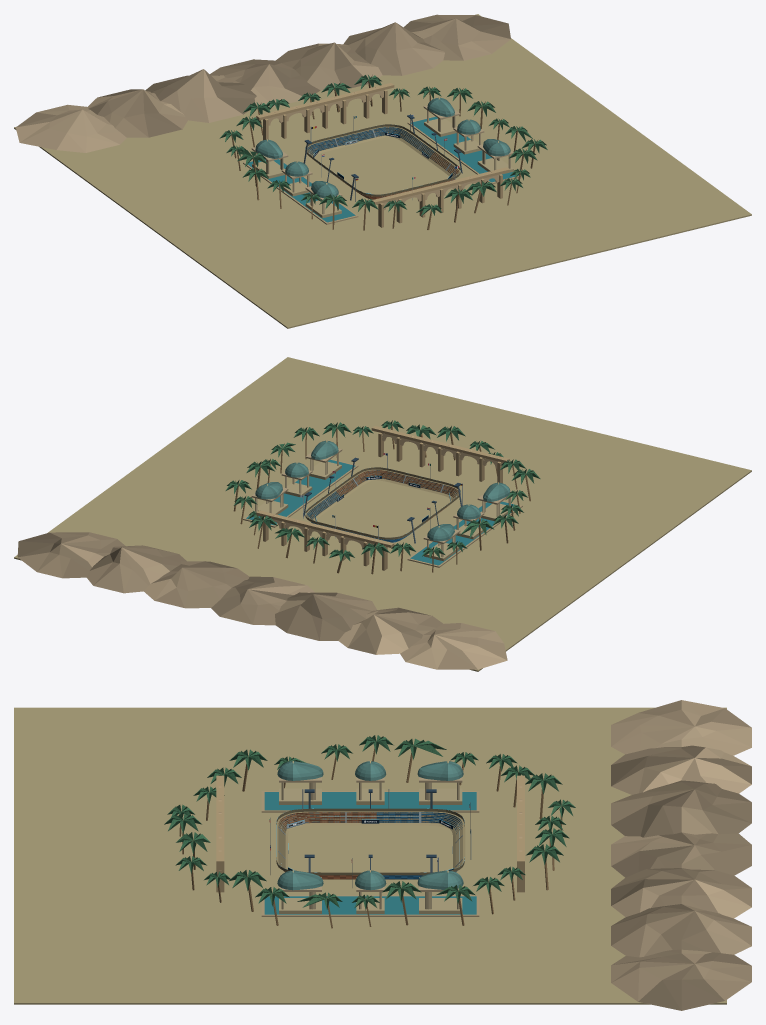
The model's file is oasis-v2.glb.
3 views of the same model, one above another, from view 1: azimuth 30°, elevation 25°; view 2: azimuth 150°, elevation 25°; view 3: azimuth 270°, elevation 25° (orthographic). The views are drawn at different scales.
Visible parts, largest first — view 1: Arena architecture / oasis; view 2: Arena architecture / oasis; view 3: Arena architecture / oasis.
Part boxes in pixels (x1=…): Arena architecture / oasis: x1=14, y1=14, x2=751, y2=328; Arena architecture / oasis: x1=14, y1=357, x2=751, y2=671; Arena architecture / oasis: x1=14, y1=700, x2=751, y2=1010.
Size of the model in its own units: 64591 by 4090 by 64782.
4 materials, 2 textured.
